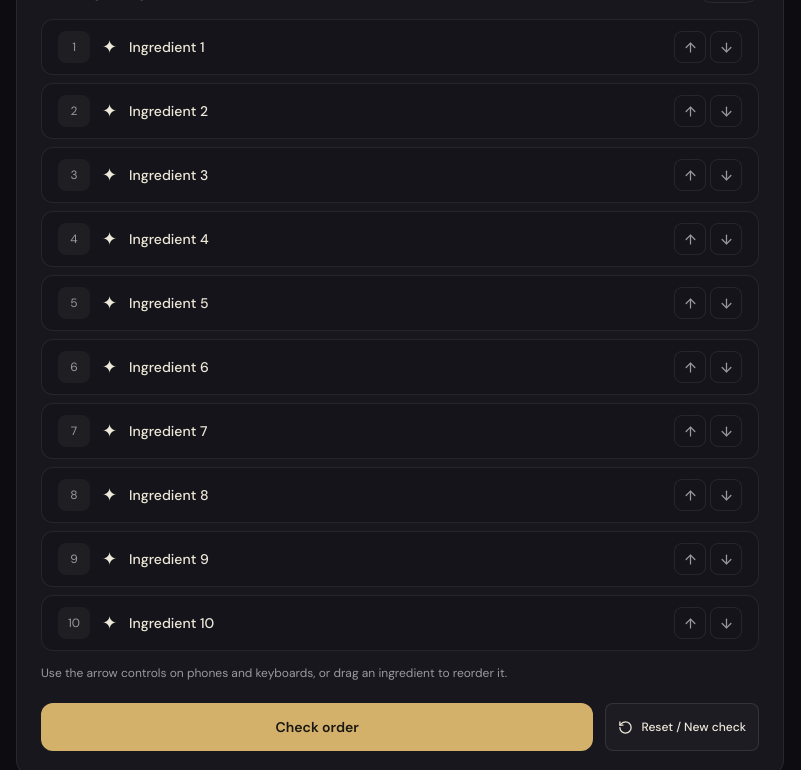
Test: ingredient order checker › shows API validation errors without displaying a result
(page scrolled)
Expected: the text "Ingredient 10" is shown, [129,614,214,632]
Click the button "Check order" at (317, 727), box [41,703,594,751]
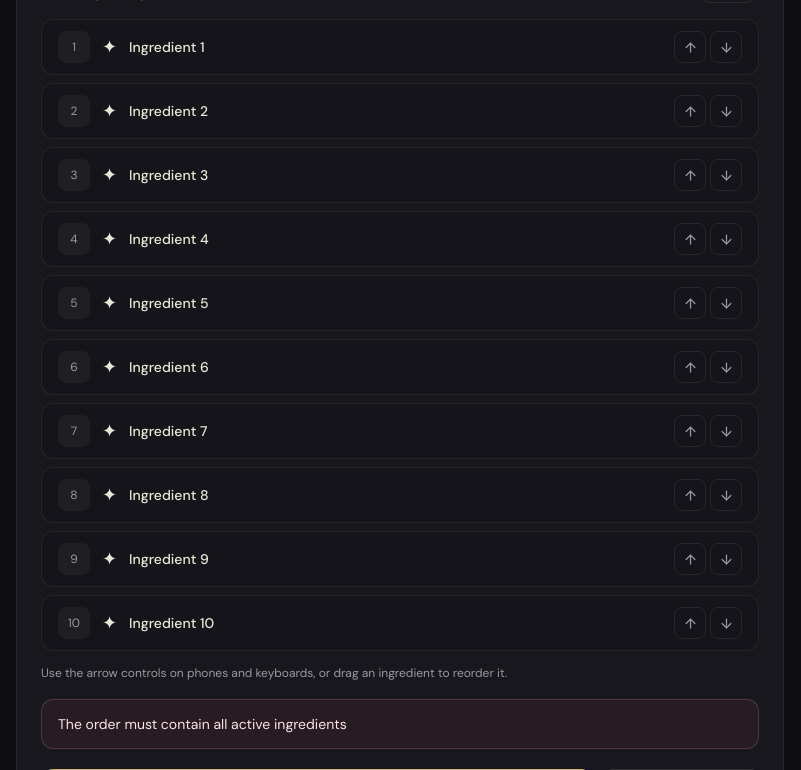
Now the message reads "The order must contain all active ingredients", box [58,715,347,733]
